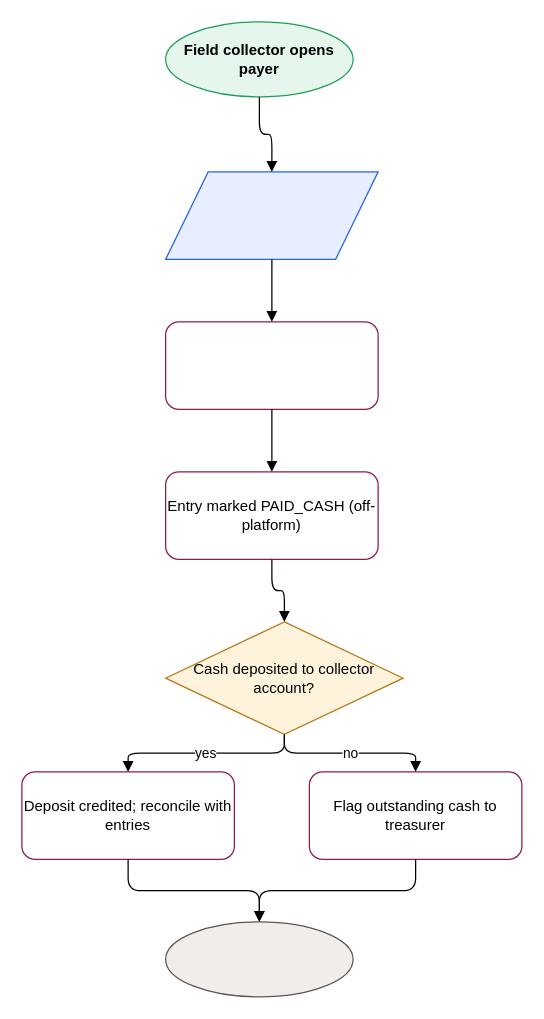
Image size: 544x1019. Some labels were removed from this diagram. Here are the shapes that lost their labels. From the top down, the centre of each, then its label:
the point at 271,215: Record amount and item; payer name confirmed
the point at 271,365: Issue digital receipt (SMS/link)
the point at 258,959: Reports updated
